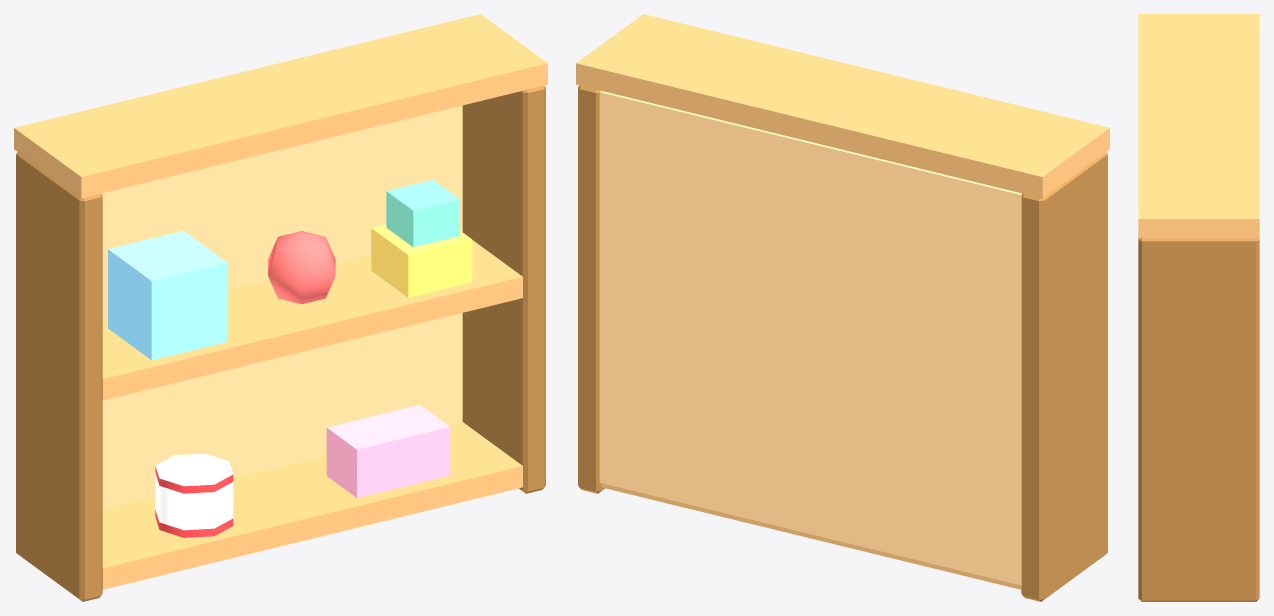
The model's file is toy-shelf.glb.
3 views of the same model, side by side, from view 1: azimuth 30°, elevation 25°; view 2: azimuth 150°, elevation 25°; view 3: azimuth 270°, elevation 25° (orthographic). The views are drawn at different scales.
Visible parts, largest first — view 1: toy-shelf; view 2: toy-shelf; view 3: toy-shelf.
Part boxes in pixels (x1,y1,x2,y2): toy-shelf: [14, 14, 547, 601]; toy-shelf: [576, 14, 1109, 601]; toy-shelf: [1138, 14, 1259, 601].
Size of the model in its own units: 8 by 7 by 2.
